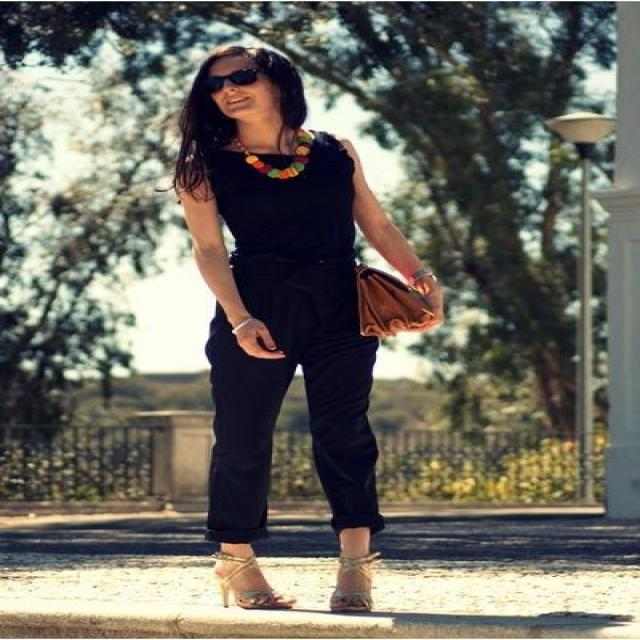bag: (355, 264, 437, 344)
pants: (194, 303, 387, 546)
shirt: (211, 124, 362, 346)
shoe: (250, 586, 394, 616)
sunglass: (194, 56, 256, 88)
